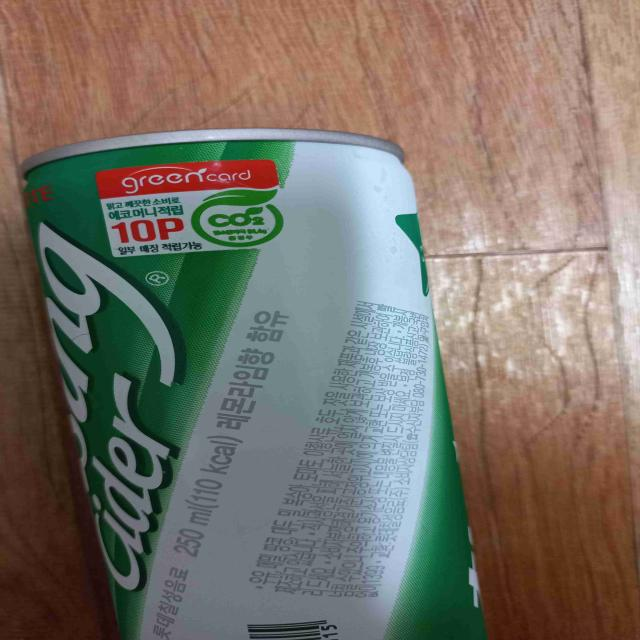can: (24, 125, 469, 640)
